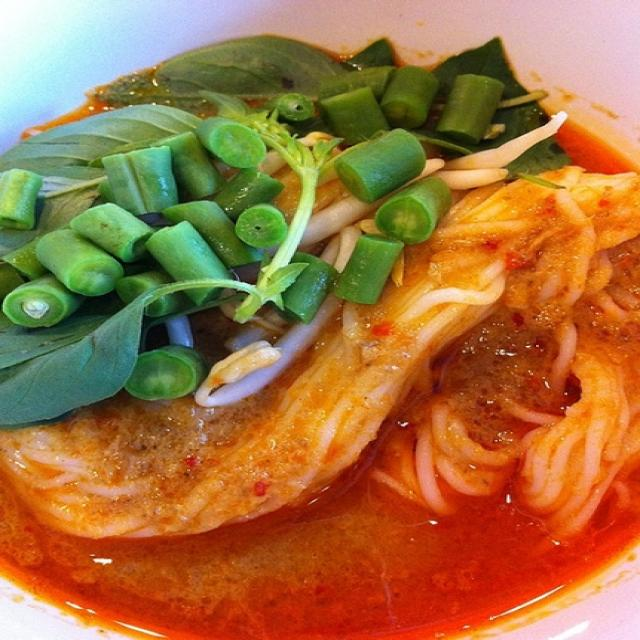面条主食: (18, 53, 615, 612)
